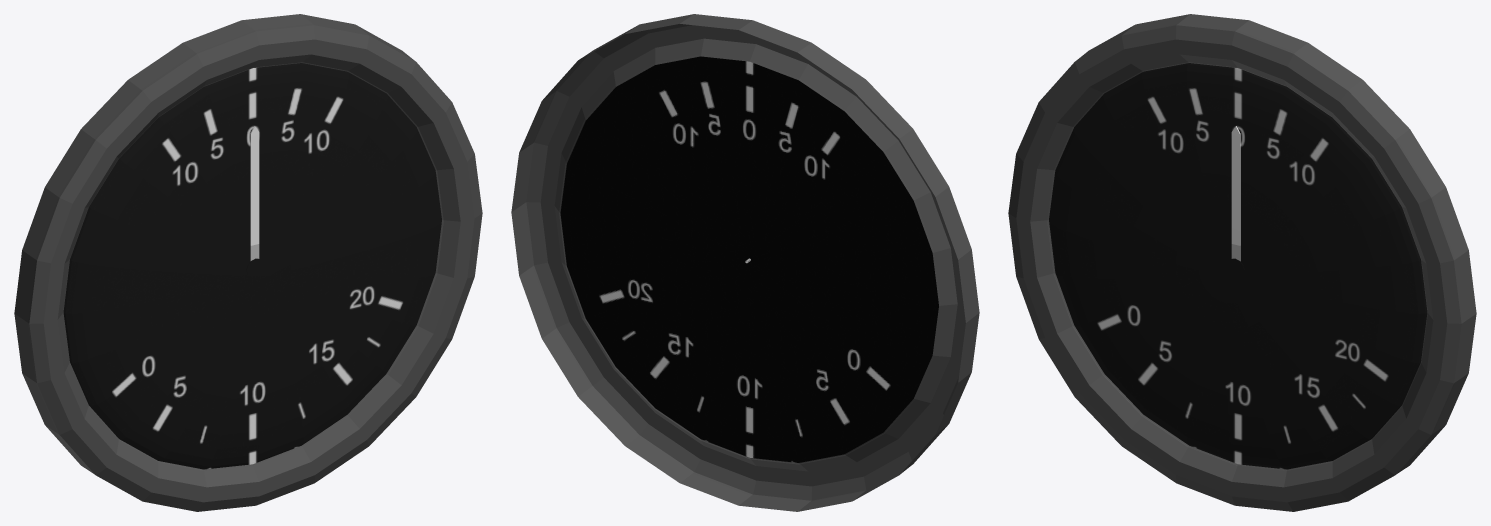
The model's file is Gauge_Pinwheel.obj.
3 renders of one model, left to right at view 1: azimuth 30°, elevation 25°; view 2: azimuth 150°, elevation 25°; view 3: azimuth 330°, elevation 25°, orthographic.
Visible parts, largest first — view 1: Face, Rim, NeedleMain; view 2: Face, Rim; view 3: Face, Rim, NeedleMain.
Boxes of the visible parts, x1=… form: Face: x1=63, y1=63, x2=441, y2=469; Rim: x1=14, y1=14, x2=482, y2=511; NeedleMain: x1=250, y1=126, x2=259, y2=245; Face: x1=560, y1=56, x2=938, y2=462; Rim: x1=511, y1=14, x2=979, y2=511; Face: x1=1049, y1=63, x2=1427, y2=469; Rim: x1=1008, y1=14, x2=1476, y2=511; NeedleMain: x1=1231, y1=126, x2=1240, y2=245.
Size of the model in its own units: 0.0822 by 0.0822 by 0.00794.
